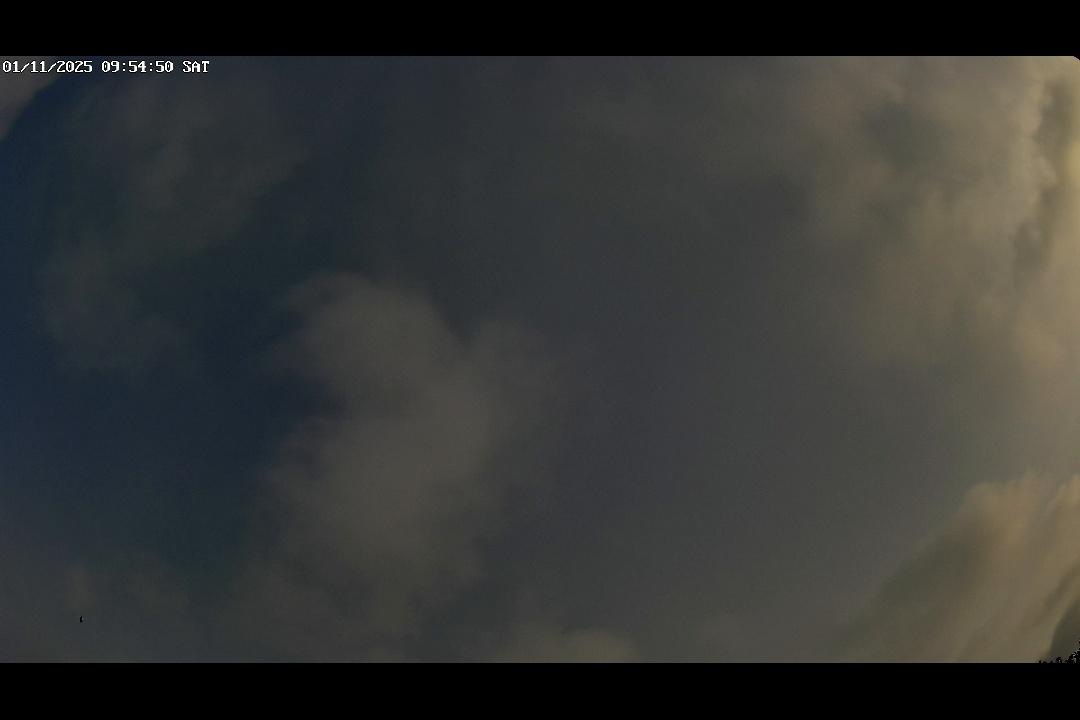WildLife: (62, 611, 96, 628)
